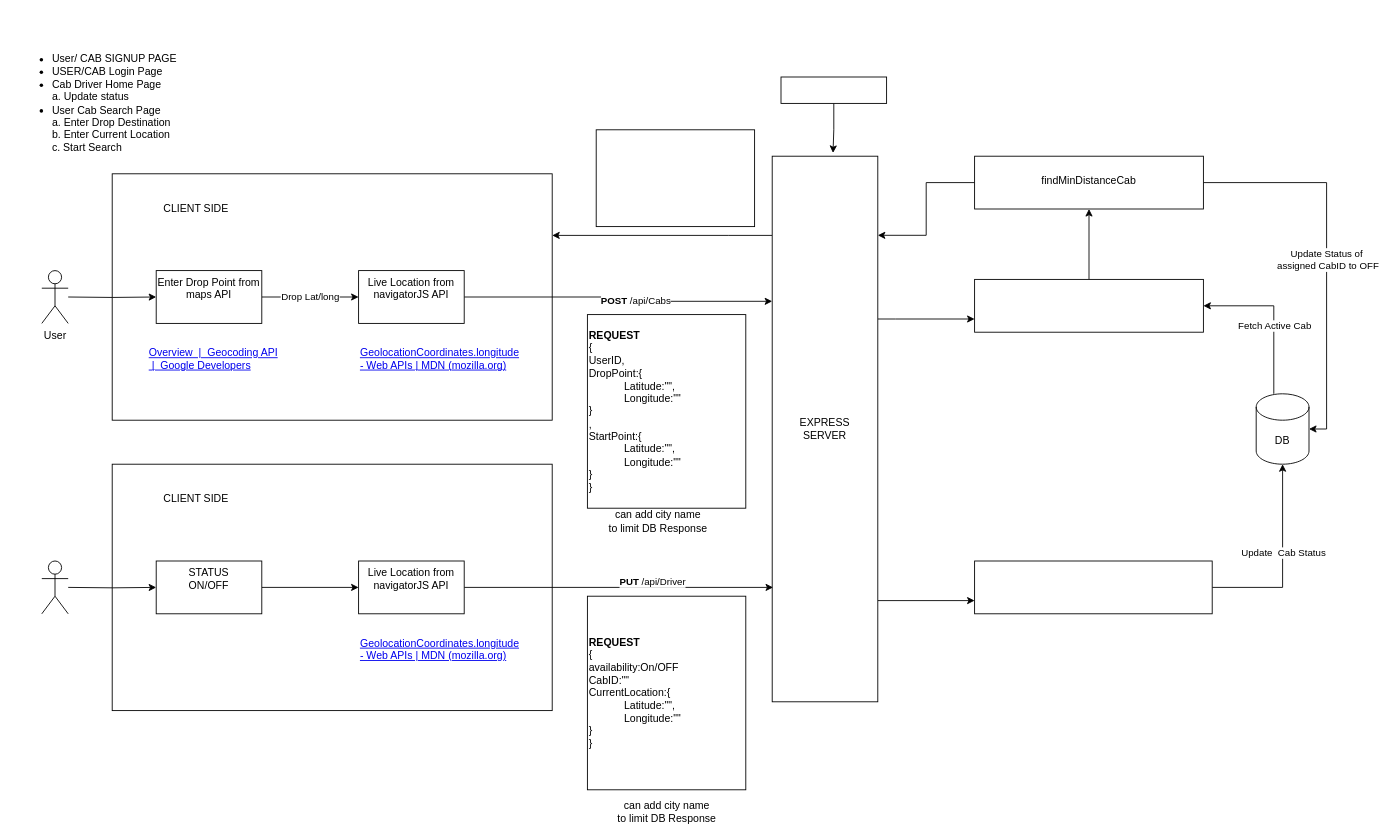
Some shapes in this 1393 by 840 pixel diagram are drawn without their labels. The shapes that lost their labels are listed below. From the top down, each one's centre as x and y in pixels, then its label:
the point at 833,89: .env THreshold Value
the point at 675,178: RESPONSE { CabID:"", DistanceToCab:"" }
the point at 1088,305: getActiveDrivers(userDataJSON)
the point at 54,587: CAB Driver
the point at 1093,587: updateDriverStatus(cabDriverDataJSON)
